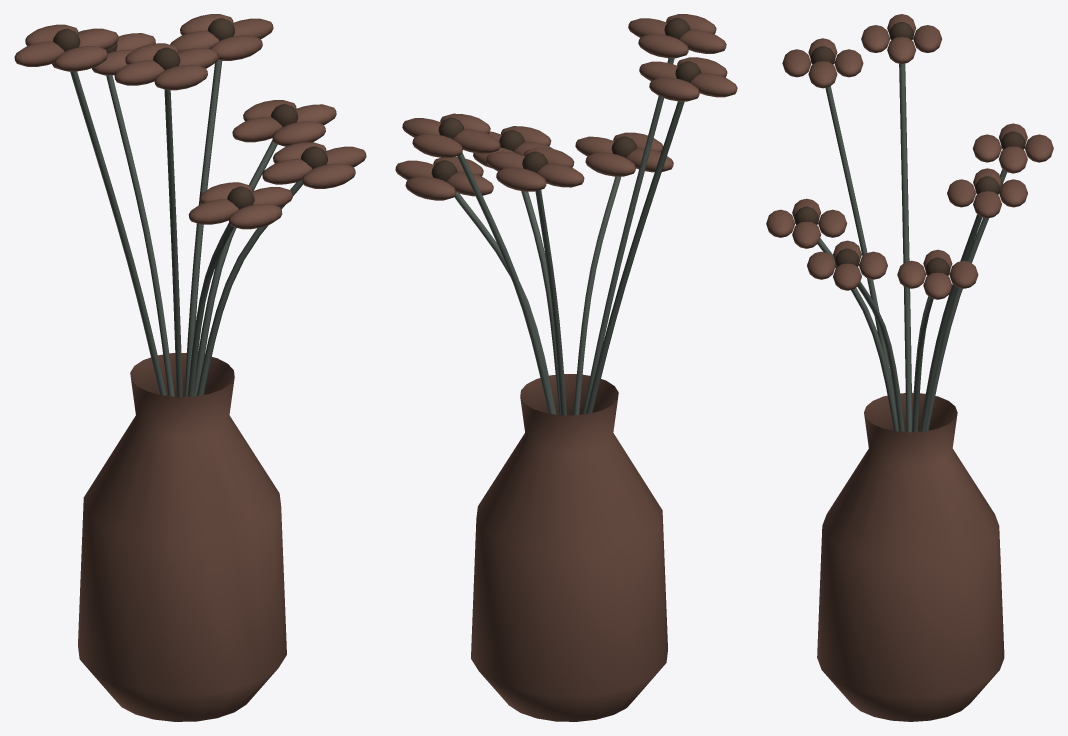
The model's file is prop-dried-flowers-v01.glb.
3 views of the same model, side by side, from view 1: azimuth 30°, elevation 25°; view 2: azimuth 150°, elevation 25°; view 3: azimuth 270°, elevation 25° (orthographic). The views are drawn at different scales.
Parts seen in each view (by area): view 1: dried-flowers; view 2: dried-flowers; view 3: dried-flowers.
Boxes of the visible parts, x1,y1,x2,y2 form: dried-flowers: (14,14,366,721); dried-flowers: (395,14,737,721); dried-flowers: (766,14,1053,721).
Bounding box in the file's own units: 0.3374 × 0.657 × 0.2765.
